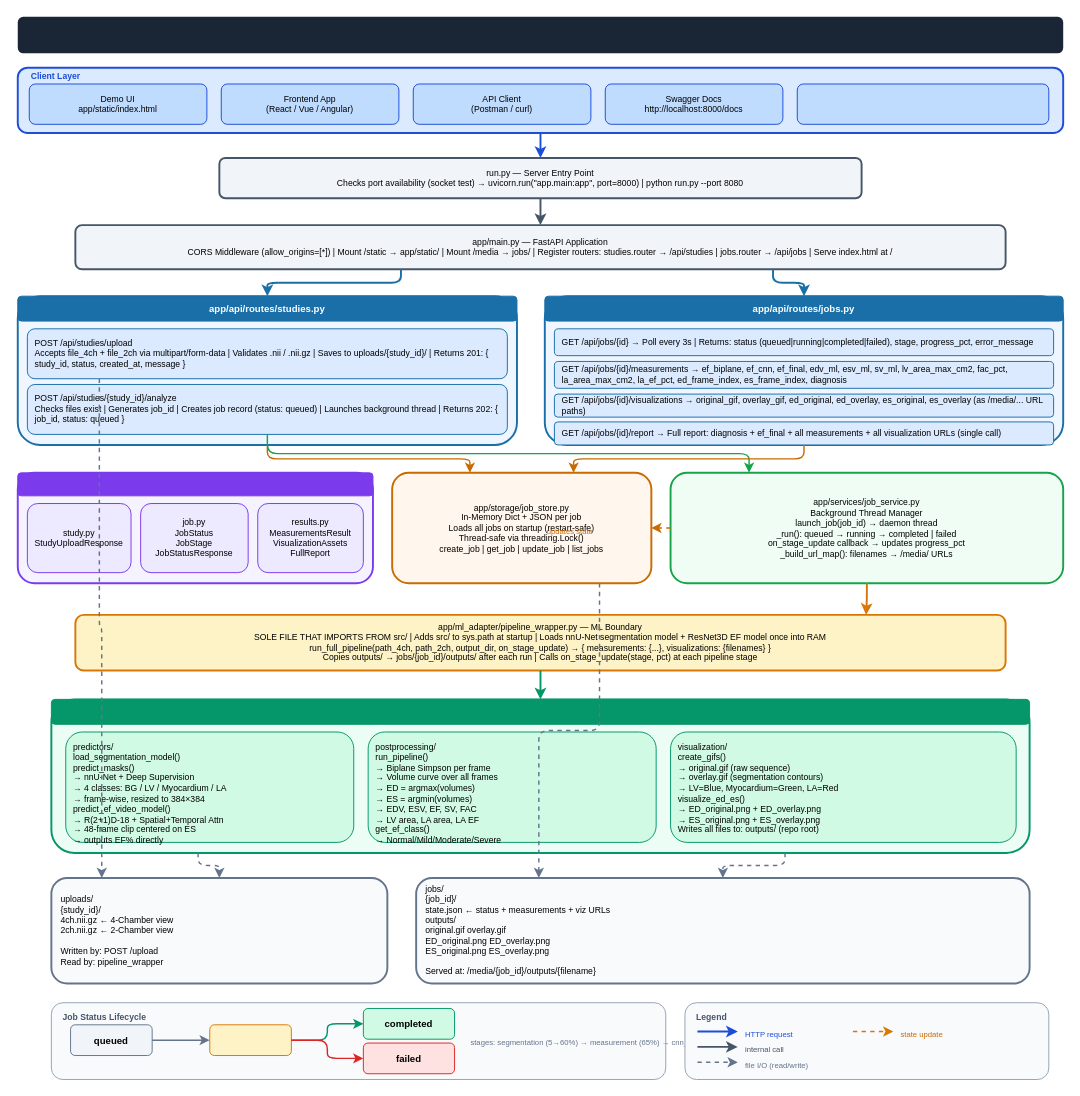
Image size: 1080x1096. Some labels were removed from this diagram. The shapes that lost their labels are listed below. From the top down, each one's centre as x and y in pixels, then its label:
At (x=540, y=34): "CardioVision — System Architecture & API Contract".
At (x=922, y=103): "Health Check GET /health".
At (x=195, y=484): "app/schemas/".
At (x=540, y=711): "src/ — ML Pipeline (READ ONLY — zero modifications)".
At (x=250, y=1040): "running".
